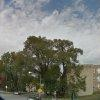Tree: (24, 33, 86, 100)
